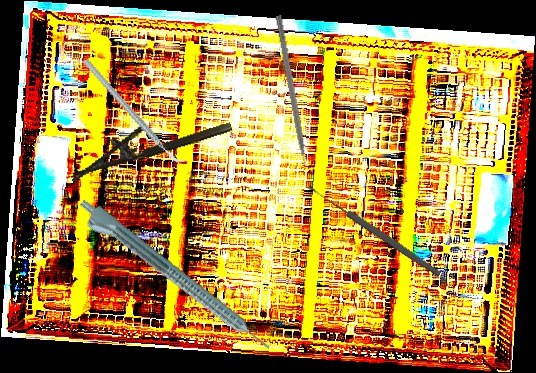Chopper: (81, 39, 187, 183), (266, 14, 311, 179)
Handpiece: (70, 195, 275, 363)
Needle Holder: (62, 100, 234, 182)
Surgical Spoon: (306, 182, 443, 279)
